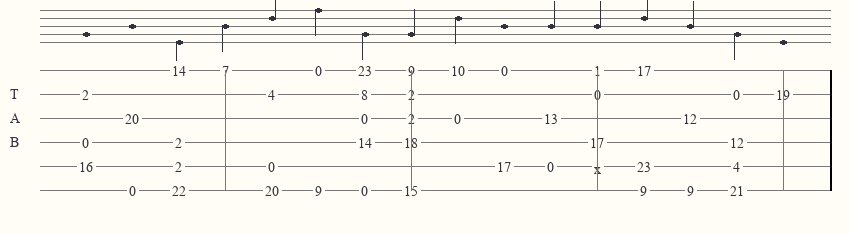0: (82, 135, 93, 149), (129, 183, 140, 197), (268, 159, 279, 173), (315, 63, 326, 77), (361, 183, 372, 197), (361, 111, 372, 125), (454, 111, 465, 125), (501, 63, 512, 77), (547, 159, 558, 173), (594, 87, 605, 101), (733, 87, 744, 101)
1: (594, 63, 605, 77)
10: (451, 63, 469, 77)
12: (683, 111, 701, 125), (730, 135, 748, 149)
13: (544, 111, 562, 125)
14: (172, 63, 190, 77), (358, 135, 376, 149)
15: (404, 183, 422, 197)
16: (79, 159, 97, 173)
17: (497, 159, 515, 173), (590, 135, 608, 149), (637, 63, 655, 77)
18: (404, 135, 422, 149)
19: (776, 87, 794, 101)
2: (82, 87, 93, 101), (175, 159, 186, 173), (175, 135, 186, 149), (408, 111, 419, 125), (408, 87, 419, 101)
20: (125, 111, 143, 125), (265, 183, 283, 197)
21: (730, 183, 748, 197)
22: (172, 183, 190, 197)
23: (358, 63, 376, 77), (637, 159, 655, 173)
4: (268, 87, 279, 101), (733, 159, 744, 173)
7: (222, 63, 233, 77)
8: (361, 87, 372, 101)
9: (315, 183, 326, 197), (408, 63, 419, 77), (640, 183, 651, 197), (687, 183, 698, 197)
x: (594, 161, 605, 172)
